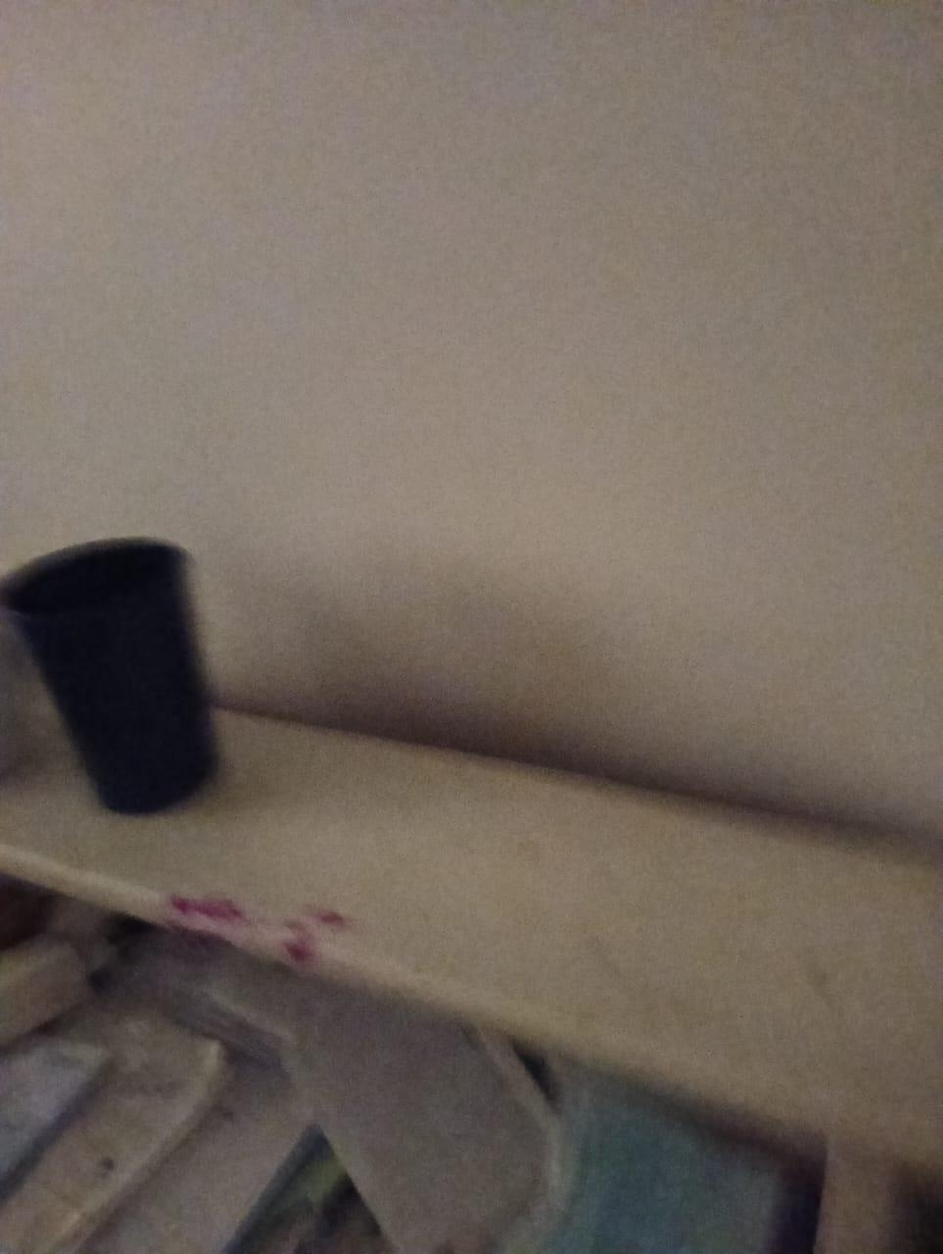cup: (0, 538, 217, 815)
